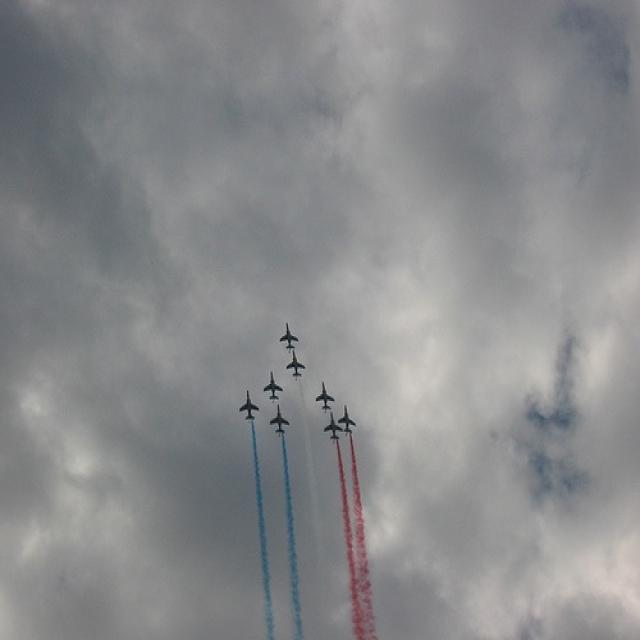aeroplane: (264, 372, 284, 405), (240, 389, 258, 425), (270, 405, 291, 435), (287, 350, 307, 379), (338, 404, 356, 434), (323, 413, 343, 440), (315, 386, 335, 413), (279, 324, 298, 350)
